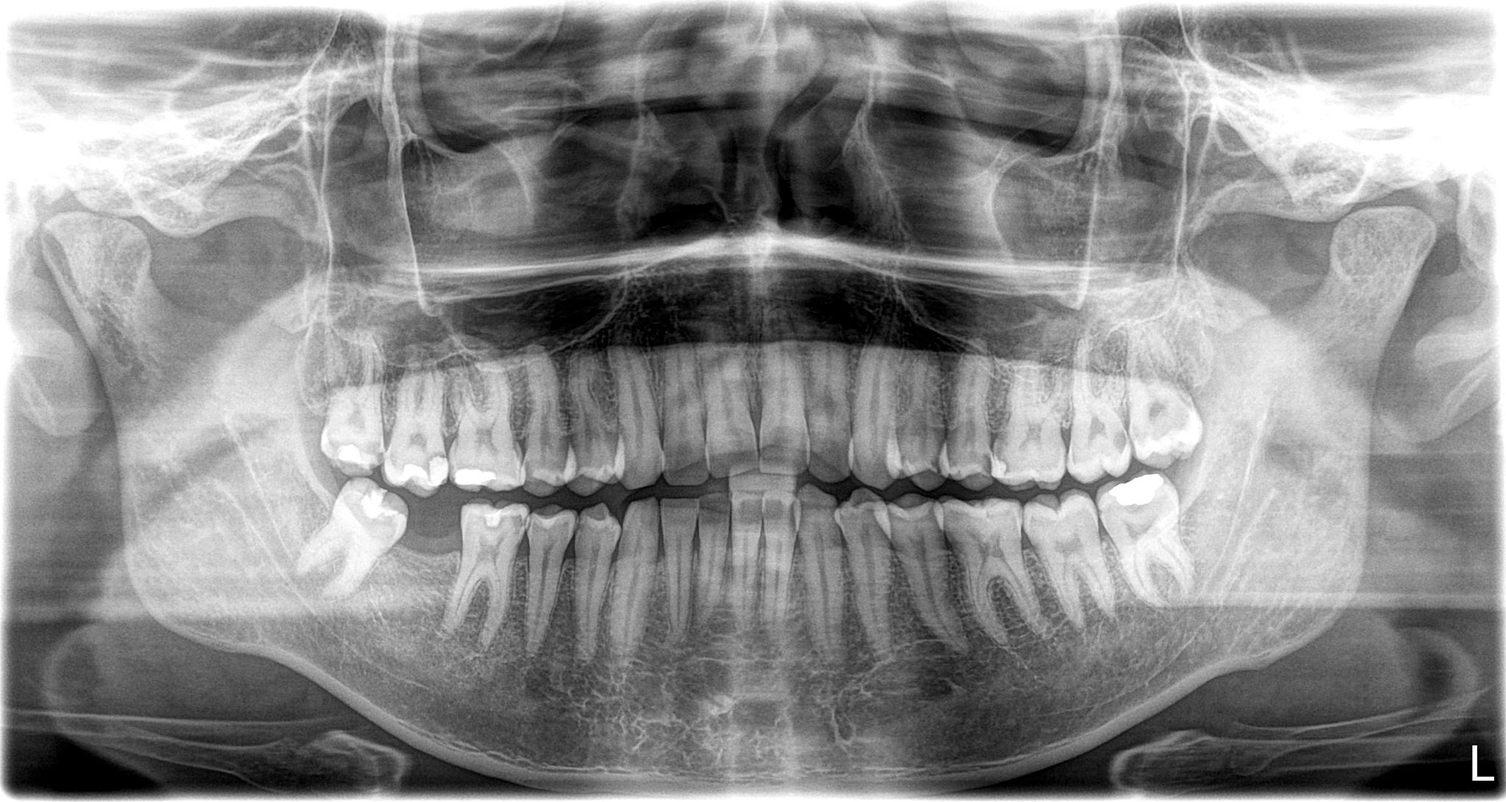Dental Caries: (1074, 413, 1110, 453), (1013, 421, 1049, 450), (1142, 401, 1170, 430)
Impacted Third Molar: (1098, 481, 1193, 612), (302, 480, 396, 603)
Missing Tooth: (403, 511, 461, 614)
